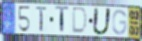5: (18, 6, 31, 34)
D: (71, 6, 89, 35)
G: (112, 9, 128, 36)
T: (54, 5, 70, 36), (35, 6, 49, 34)
U: (92, 7, 113, 37)
